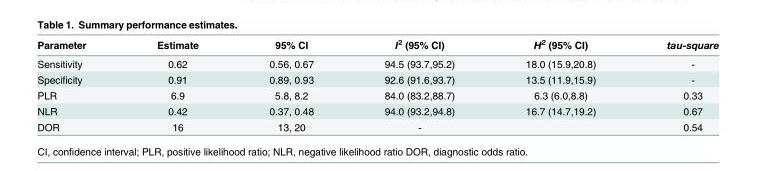table: (36, 37, 718, 132)
table column: (348, 37, 489, 132), (489, 37, 630, 132), (233, 37, 348, 132), (120, 37, 233, 132), (630, 37, 718, 132), (36, 37, 120, 132)
table column header: (36, 37, 718, 54)
table row: (36, 37, 718, 54), (36, 54, 718, 71), (36, 71, 718, 87), (36, 102, 718, 118), (36, 87, 718, 102), (36, 118, 718, 132)
